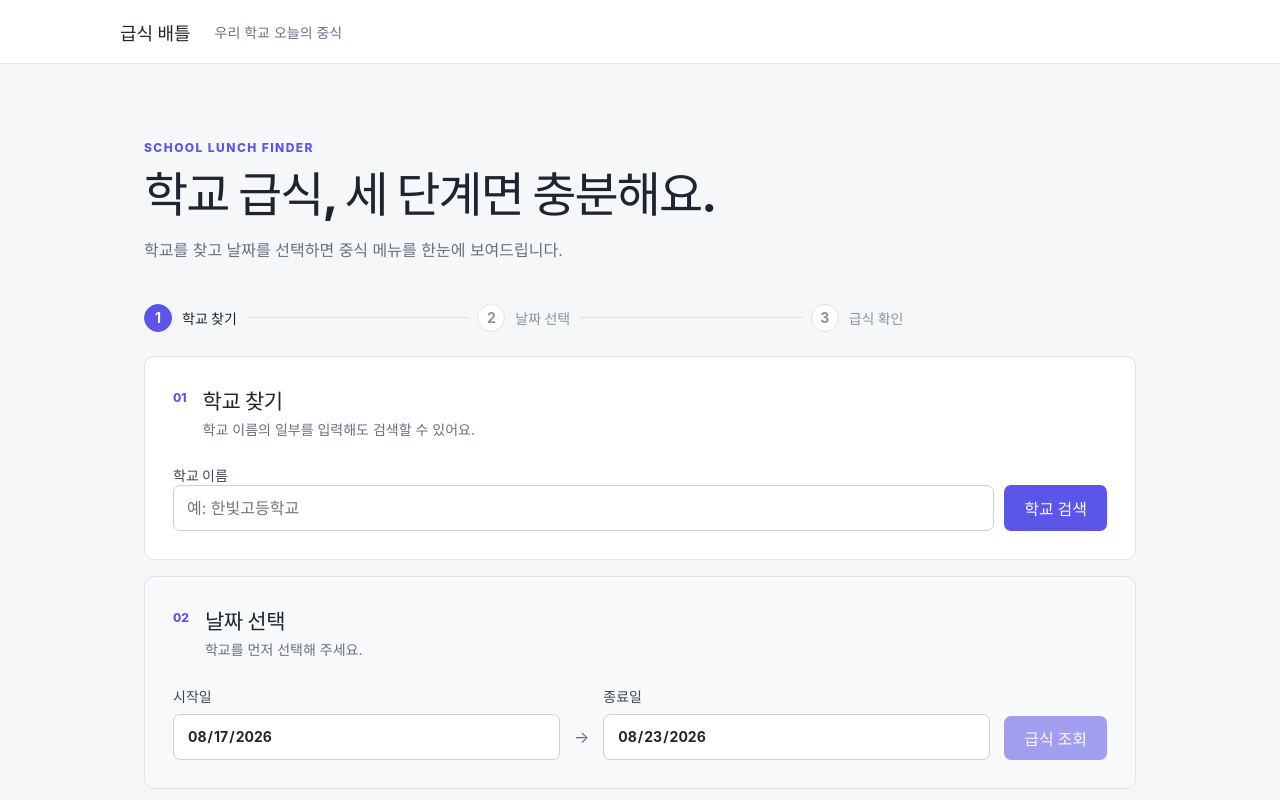
Test case: App › shows empty search results separately from errors
Type "없음" into the dropdown labelled "학교 이름".
click(584, 508); type("없음")  # box [173, 485, 994, 531]
Then press Enter
(page scrolled)
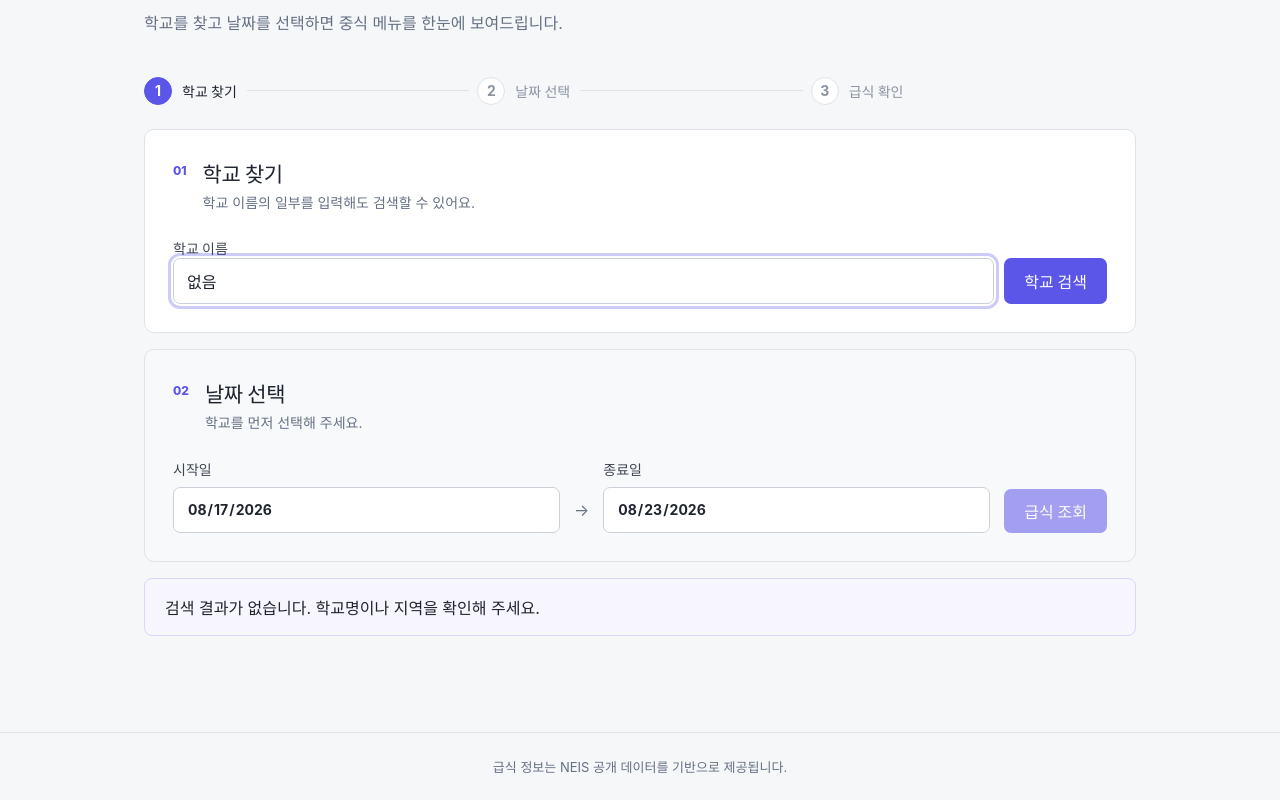
Expected: the text "검색 결과가 없습니다. 학교명이나 지역을 확인해 주세요." is shown, [165, 595, 540, 619]
